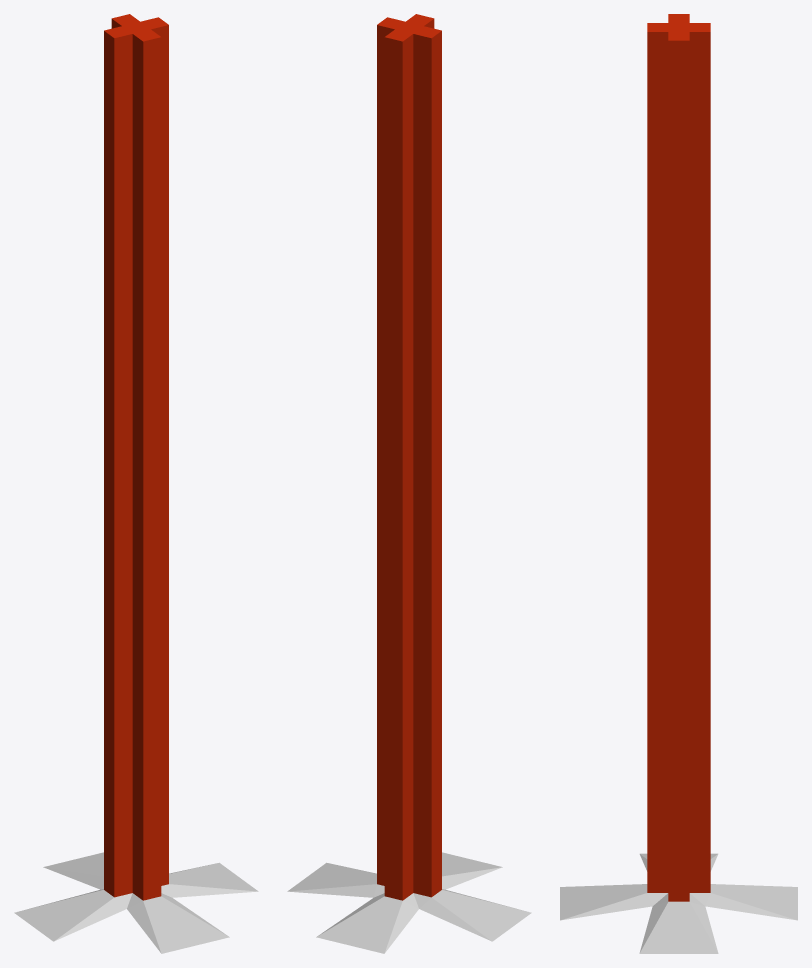
The model's file is PiquetRouge.dae.
3 views of the same model, side by side, from view 1: azimuth 30°, elevation 25°; view 2: azimuth 150°, elevation 25°; view 3: azimuth 270°, elevation 25° (orthographic).
Visible parts, largest first — view 1: Cube; view 2: Cube; view 3: Cube.
Boxes of the visible parts, bbox=[...] form: Cube: bbox=[14, 14, 258, 953]; Cube: bbox=[287, 14, 531, 953]; Cube: bbox=[560, 14, 797, 953].
Bounding box in the file's own units: 0.0751 × 0.0751 × 0.3053.
